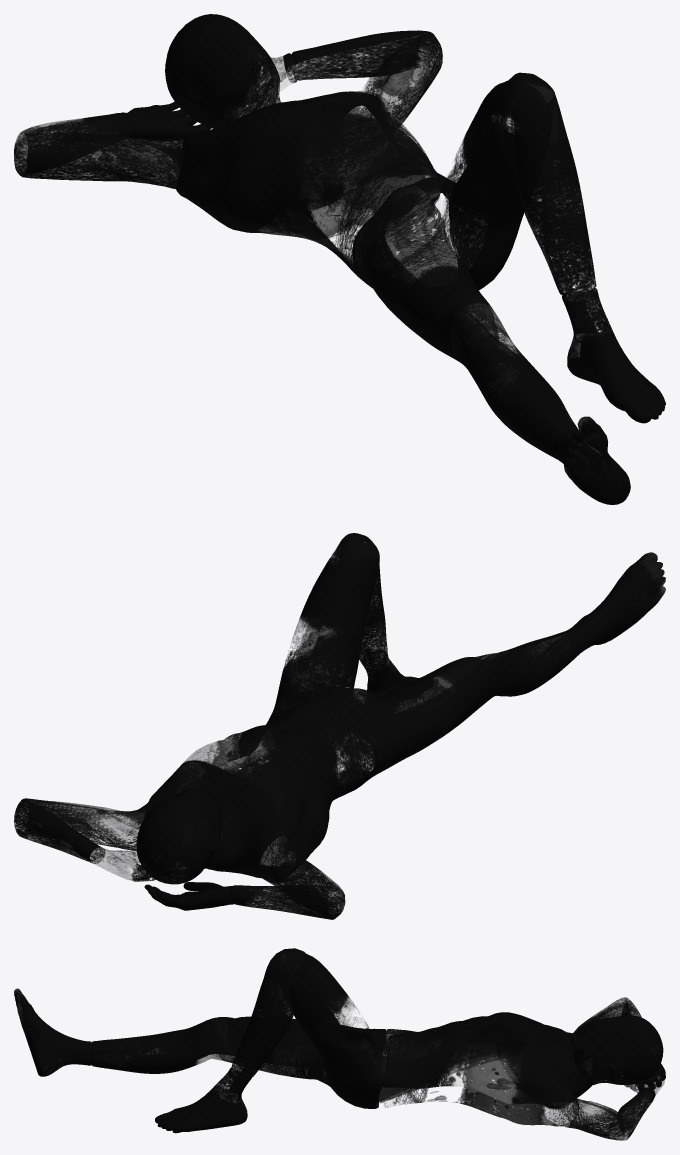
File: bigw.gltf
3 renders of one model, top to bottom at view 1: azimuth 30°, elevation 25°; view 2: azimuth 150°, elevation 25°; view 3: azimuth 270°, elevation 25°, orthographic. The views are drawn at different scales.
Parts seen in each view (by area): view 1: Ch36; view 2: Ch36; view 3: Ch36.
Boxes of the visible parts, left/top/right/bottom form: Ch36: left=14, top=14, right=665, bottom=504; Ch36: left=14, top=533, right=665, bottom=919; Ch36: left=14, top=948, right=665, bottom=1140.
Size of the model in its own units: 0.6288 by 0.3889 by 1.35.
1 material, 1 textured.
